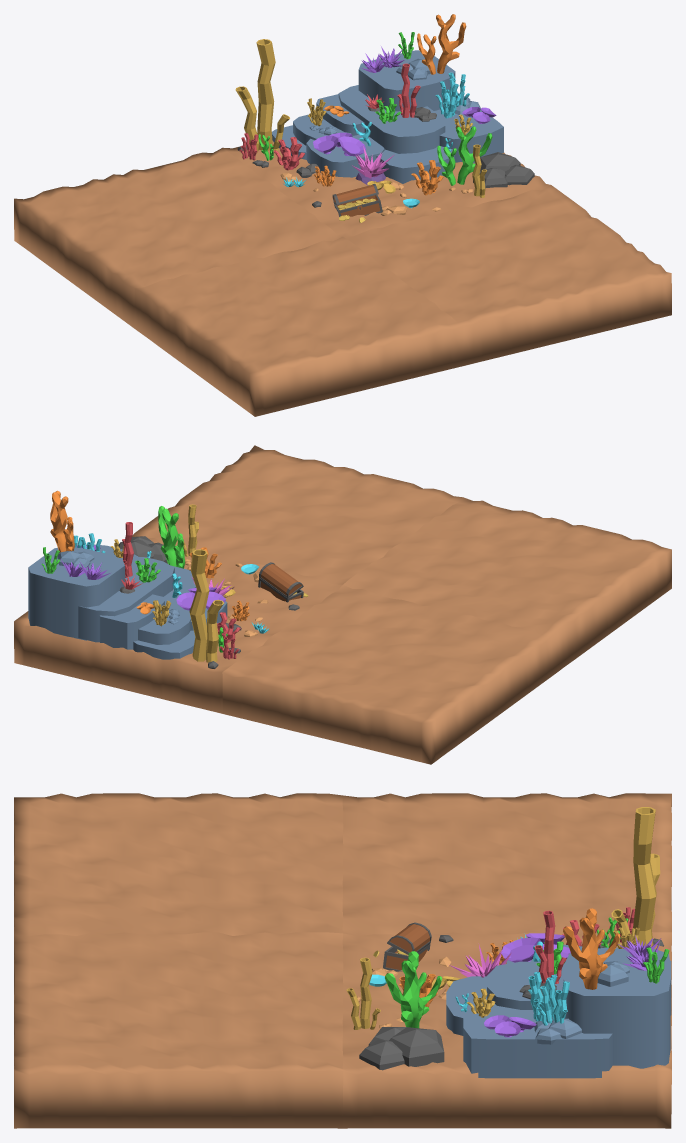
The model's file is animated ocean.fbx.
3 renders of one model, top to bottom at view 1: azimuth 30°, elevation 25°; view 2: azimuth 150°, elevation 25°; view 3: azimuth 270°, elevation 25°, orthographic. The views are drawn at different scales.
Parts seen in each view (by area): view 1: Sand, Cube.002, Cube.001, Cylinder.003, Plane.017, Cylinder.001, Cylinder.008, Cylinder.021, Cylinder.018, Cylinder.006; view 2: Sand, Cube.002, Cube.001, Cylinder.003, Plane.017, Cylinder.008, Cylinder.001, Icosphere.025; view 3: Sand, Cube.002, Cylinder.003, Icosphere.002, Cylinder.001, Cylinder.008, Plane.017, Cylinder.017, Cylinder.005, Cylinder.021, Icosphere.003, Icosphere.029 (+5 smaller).
Boxes of the visible parts, x1,y1,x2,y2 form: Sand: (14,141,671,416); Cube.002: (338,50,503,183); Cube.001: (272,94,384,177); Cylinder.003: (235,39,289,153); Plane.017: (332,183,382,216); Cylinder.001: (436,14,466,73); Cylinder.008: (456,126,492,184); Cylinder.021: (397,63,420,117); Cylinder.018: (411,160,443,195); Cylinder.006: (273,137,304,170); Sand: (14,445,671,764); Cube.002: (28,544,196,642); Cube.001: (99,589,227,659); Cylinder.003: (189,549,223,662); Plane.017: (258,562,303,602); Cylinder.008: (158,506,178,566); Cylinder.001: (50,490,68,552); Icosphere.025: (57,550,94,569); Sand: (14,793,671,1128); Cube.002: (446,949,670,1078); Cylinder.003: (611,807,660,946); Icosphere.002: (389,1027,444,1066); Cylinder.001: (563,908,597,989); Cylinder.008: (385,951,419,1028); Plane.017: (383,922,431,971); Cylinder.017: (346,957,380,1029); Cylinder.005: (537,978,569,1025); Cylinder.021: (534,910,566,983); Icosphere.003: (359,1039,404,1070); Icosphere.029: (534,1018,581,1044).
Size of the model in its own units: 301 by 103 by 300.
